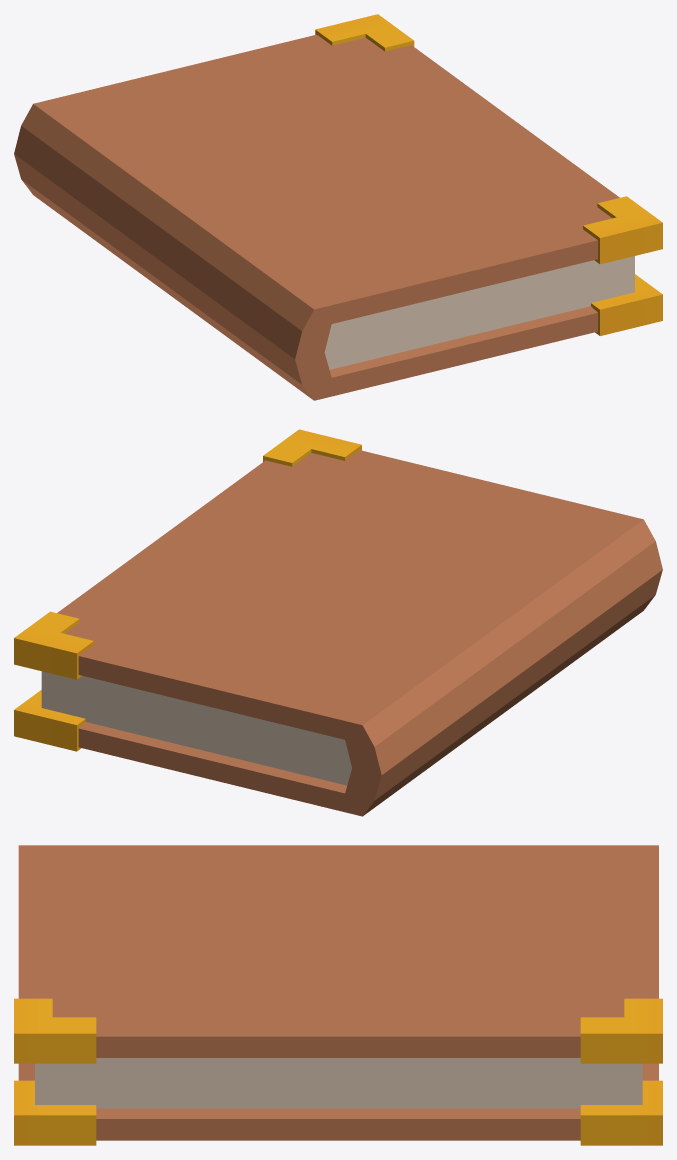
The model's file is Book_02.fbx.
The picture shows the model from 3 angles, top to bottom: view 1: azimuth 30°, elevation 25°; view 2: azimuth 150°, elevation 25°; view 3: azimuth 270°, elevation 25°; orthographic projection. The views are drawn at different scales.
Parts seen in each view (by area): view 1: Book_02; view 2: Book_02; view 3: Book_02.
Part boxes in pixels (<box>): Book_02: <box>14,14,662,400</box>; Book_02: <box>14,429,662,816</box>; Book_02: <box>14,845,662,1145</box>.
Bounding box in the file's own units: 0.4008 × 0.1028 × 0.5407.
